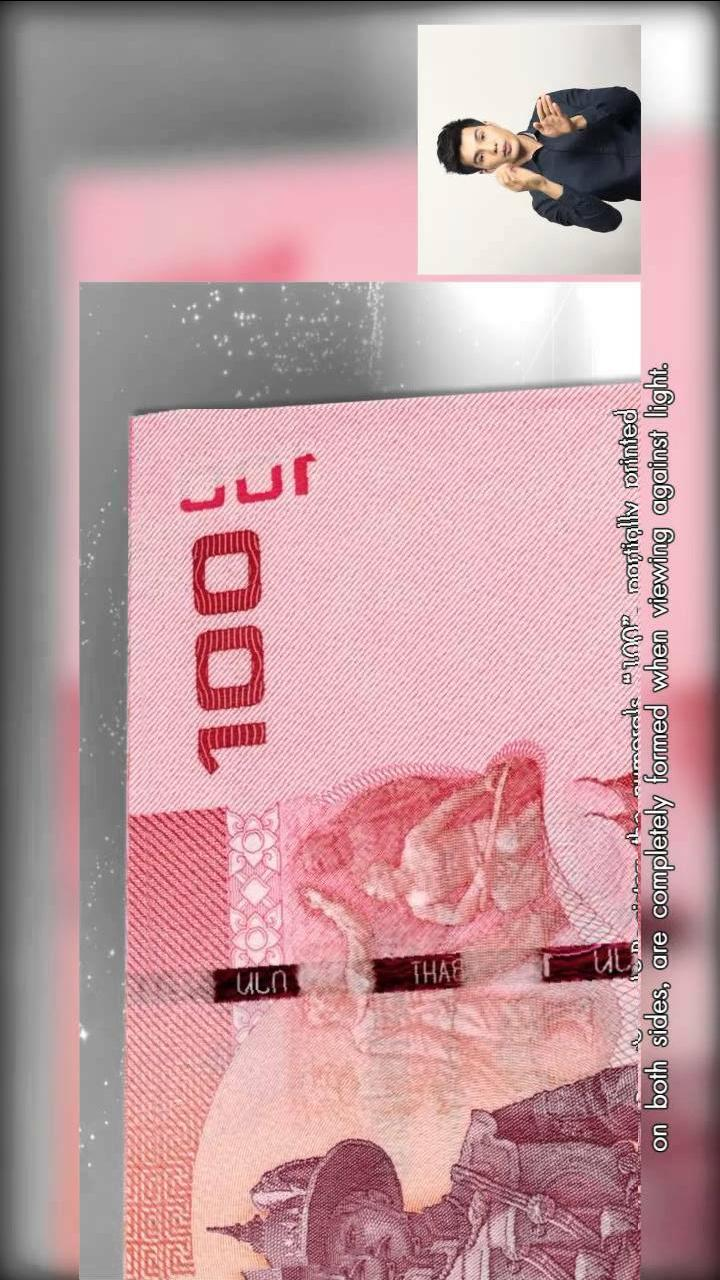100BahtTai: (132, 409, 638, 1280)
